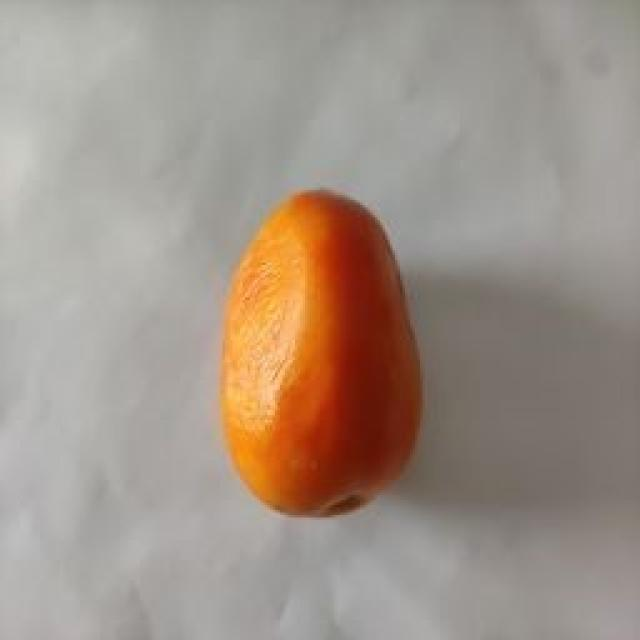Ripe: (213, 187, 425, 518)
